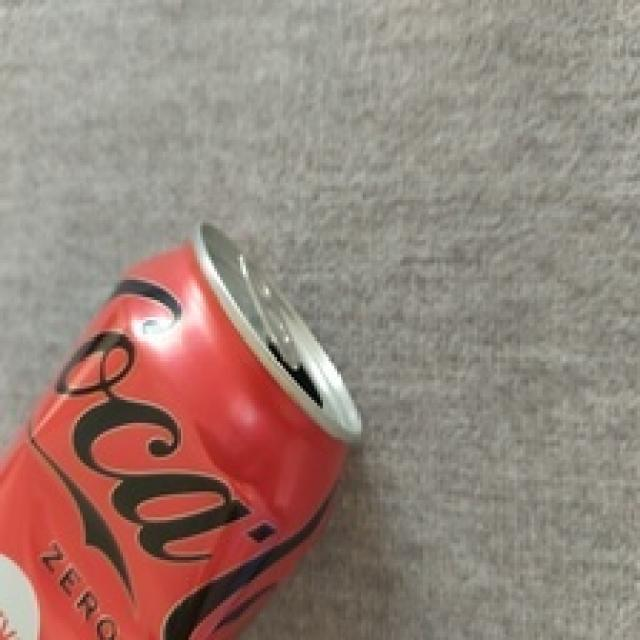recyclable: (0, 221, 369, 640)
